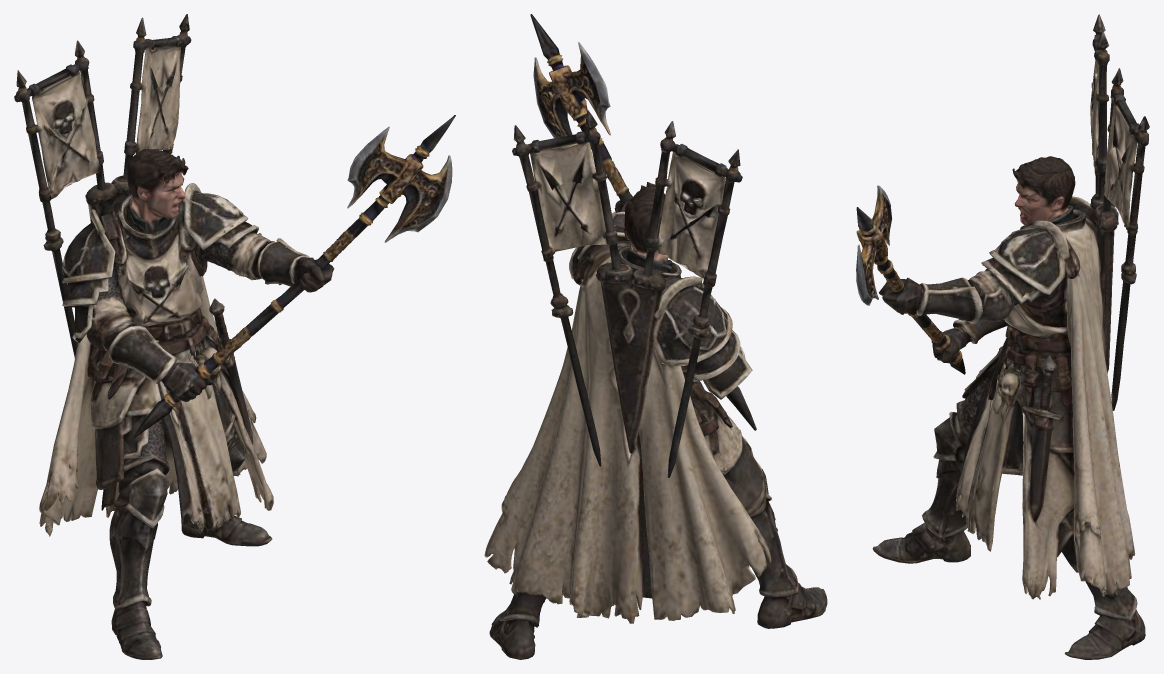
The model's file is warband_captain.glb.
3 renders of one model, left to right at view 1: azimuth 30°, elevation 25°; view 2: azimuth 150°, elevation 25°; view 3: azimuth 270°, elevation 25°, orthographic. The views are drawn at different scales.
Parts seen in each view (by area): view 1: tripo_node_16d71239-0098-49af-941e-dc2676c5c490; view 2: tripo_node_16d71239-0098-49af-941e-dc2676c5c490; view 3: tripo_node_16d71239-0098-49af-941e-dc2676c5c490.
Part boxes in pixels (x1=…): tripo_node_16d71239-0098-49af-941e-dc2676c5c490: x1=14, y1=14, x2=455, y2=659; tripo_node_16d71239-0098-49af-941e-dc2676c5c490: x1=484, y1=14, x2=827, y2=659; tripo_node_16d71239-0098-49af-941e-dc2676c5c490: x1=856, y1=14, x2=1149, y2=659.
Bounding box in the file's own units: 0.6166 × 0.9803 × 0.4805.
Materials: 1 (1 with a texture image).
